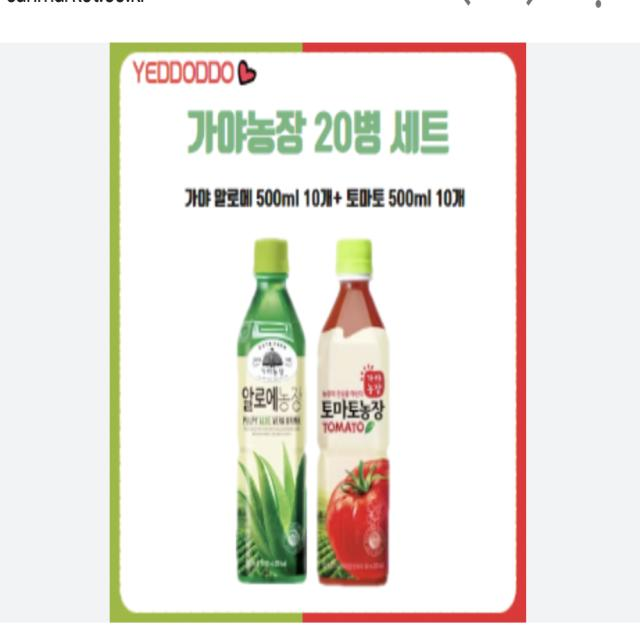recyclable: (309, 224, 395, 592), (232, 227, 313, 588)
